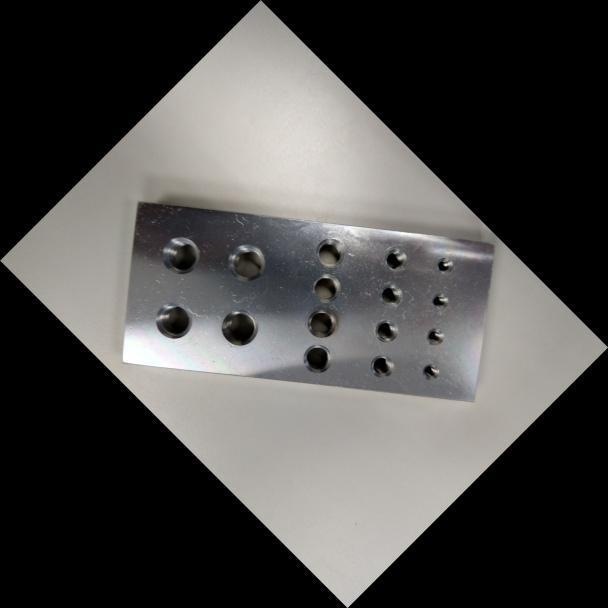hole: (152, 227, 208, 283), (218, 235, 274, 290), (146, 293, 200, 347), (213, 301, 265, 353), (300, 302, 343, 345), (296, 337, 338, 380), (308, 231, 351, 273), (306, 267, 347, 309), (373, 278, 408, 313), (369, 314, 403, 347), (379, 243, 412, 276), (365, 350, 398, 383), (432, 252, 458, 279), (421, 323, 447, 350), (417, 359, 442, 384), (427, 289, 451, 313)
